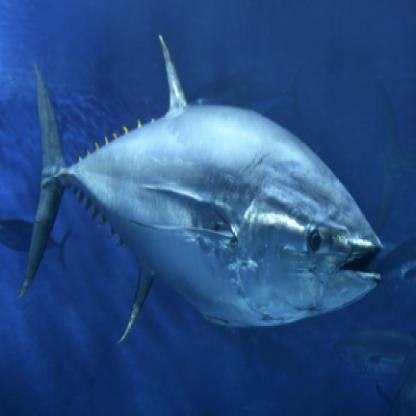tuna: (12, 26, 384, 346)
